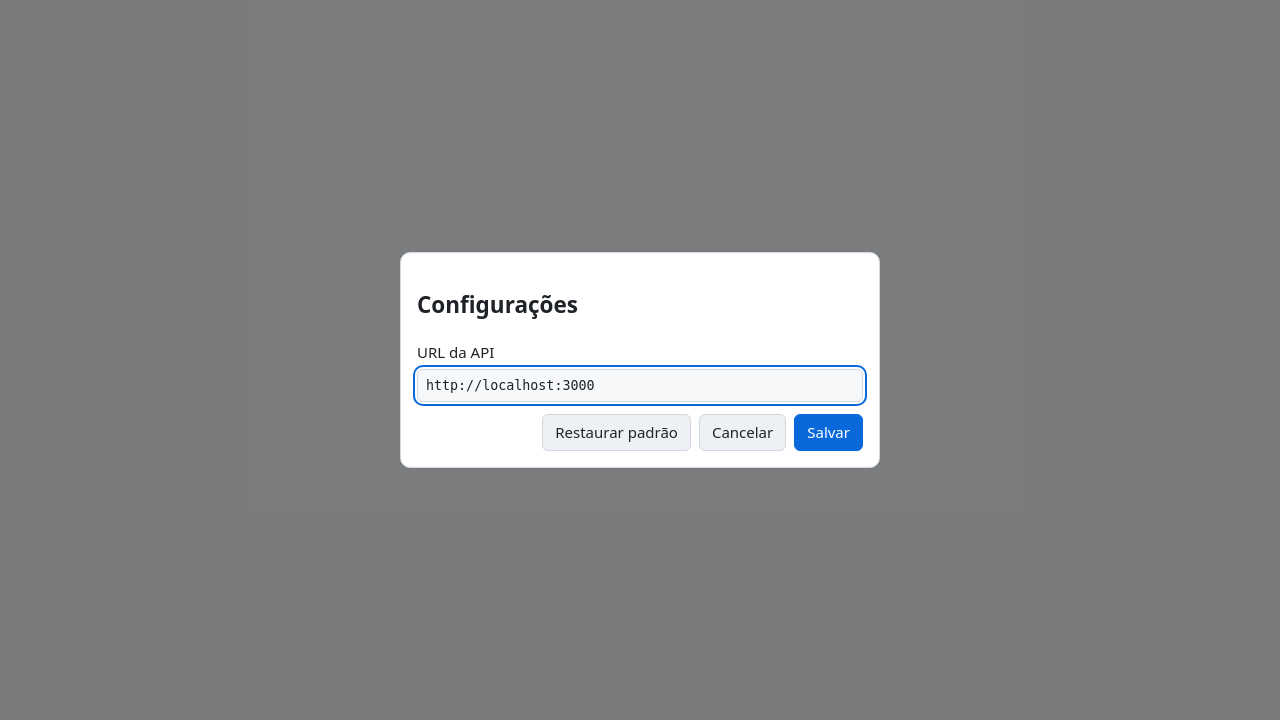
SettingsDialog (US4) › refuses texto qualquer with an inline message
Replace the text in the field labelled "URL da API" with "texto qualquer": (640, 386) left=417, top=369, right=863, bottom=402
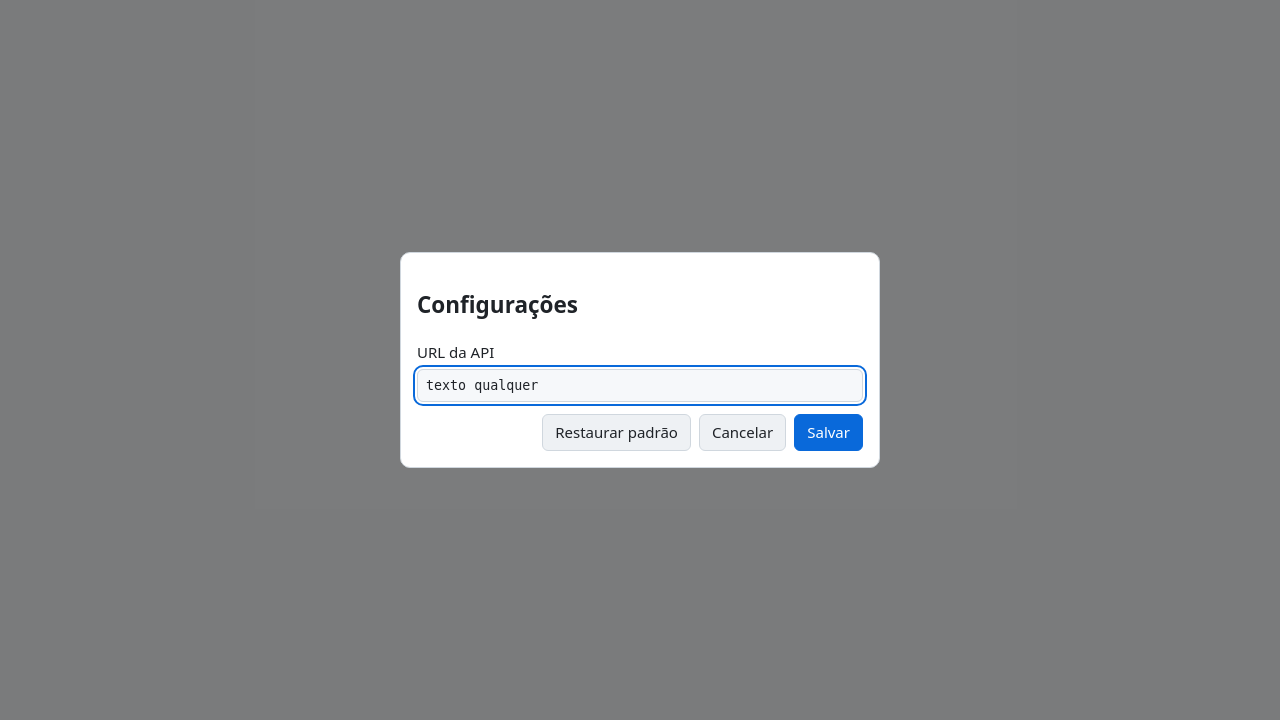
Click the button "Salvar": (829, 432) left=794, top=414, right=863, bottom=450
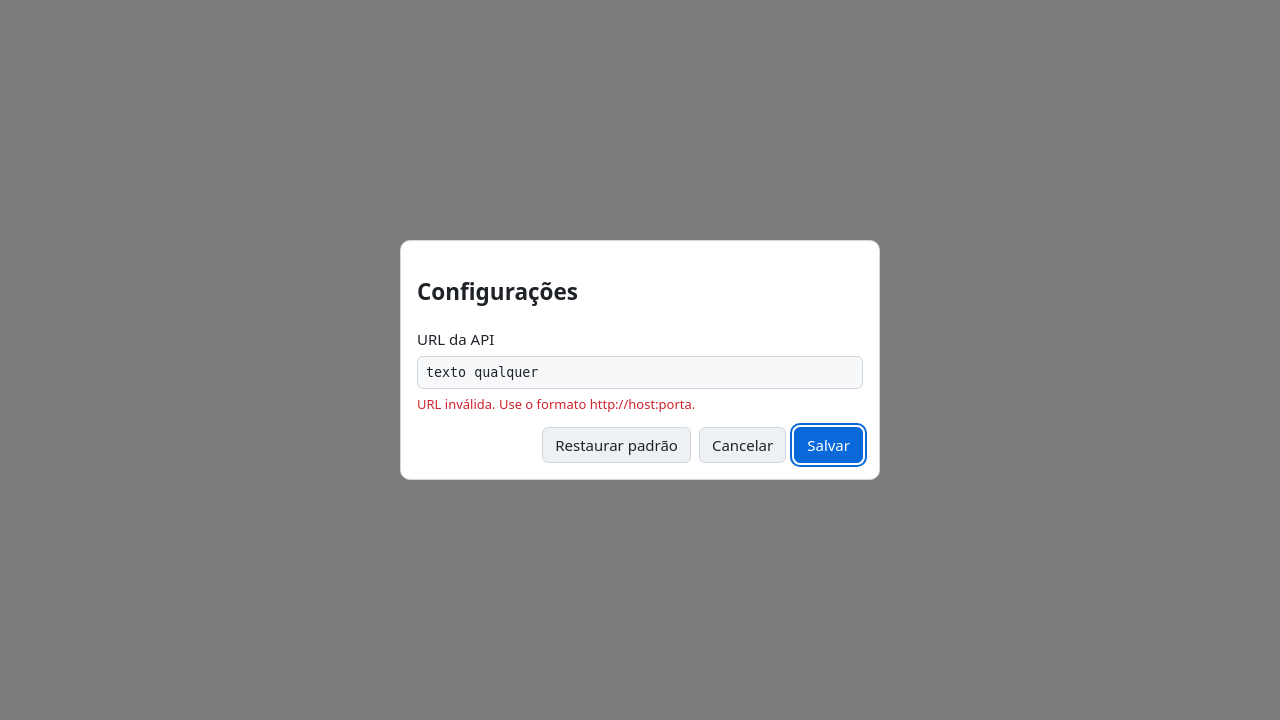
Result: the message "URL inválida. Use o formato http://host:porta." is shown at left=417, top=395, right=695, bottom=413
